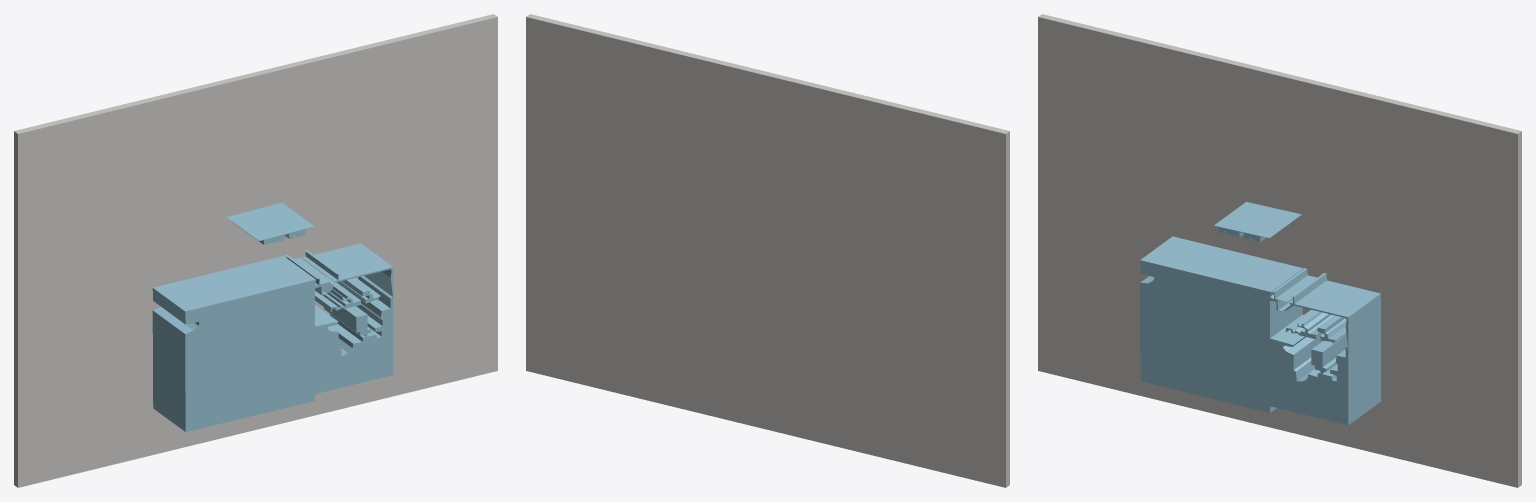
3 views of the same model, side by side, from view 1: azimuth 30°, elevation 25°; view 2: azimuth 150°, elevation 25°; view 3: azimuth 330°, elevation 25° (orthographic).
Visible parts, largest first — view 1: world; view 2: world; view 3: world.
Boxes of the visible parts, x1,y1,x2,y2 form: world: [14, 14, 497, 487]; world: [526, 14, 1009, 487]; world: [1038, 14, 1521, 487].
Bounding box in the file's own units: 10.23 × 7.21 × 1.35.
